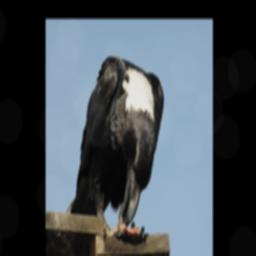Crow: (66, 51, 166, 242)
